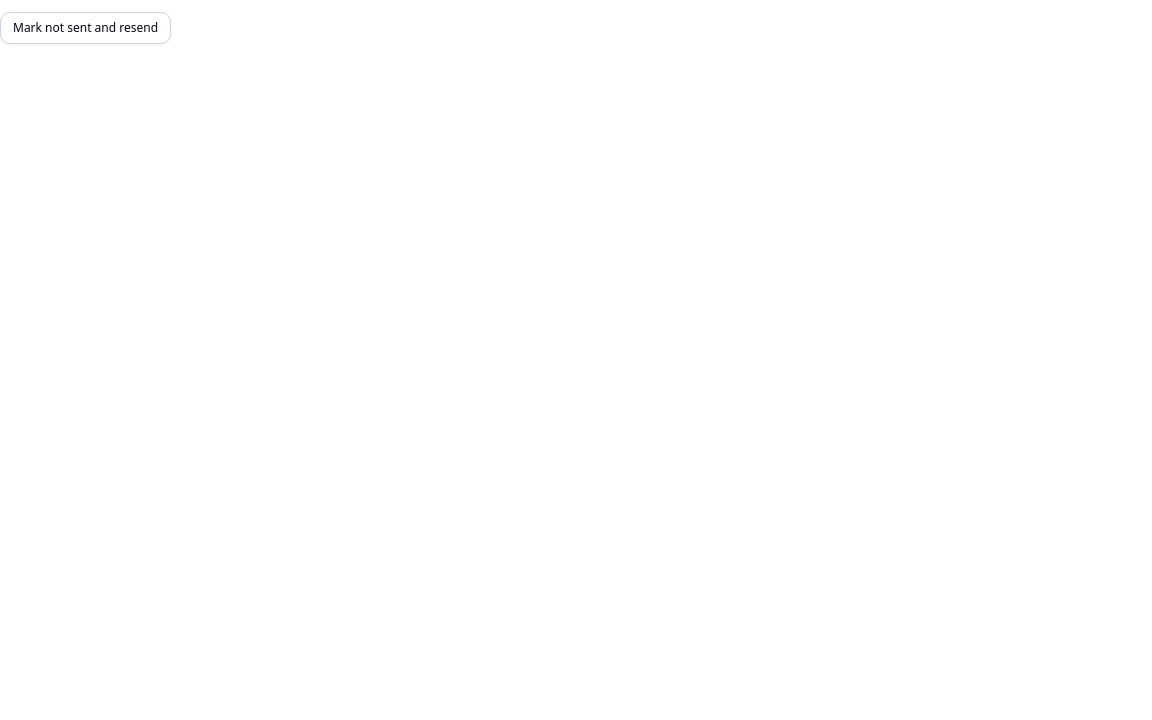
Scenario: VerificationResendAction › explains a resend the store was not ready for
What coordinates should you click on to do the following:
click the button "Mark not sent and resend"
I would click on:
 (86, 28)
Its box is [0,12,171,44].
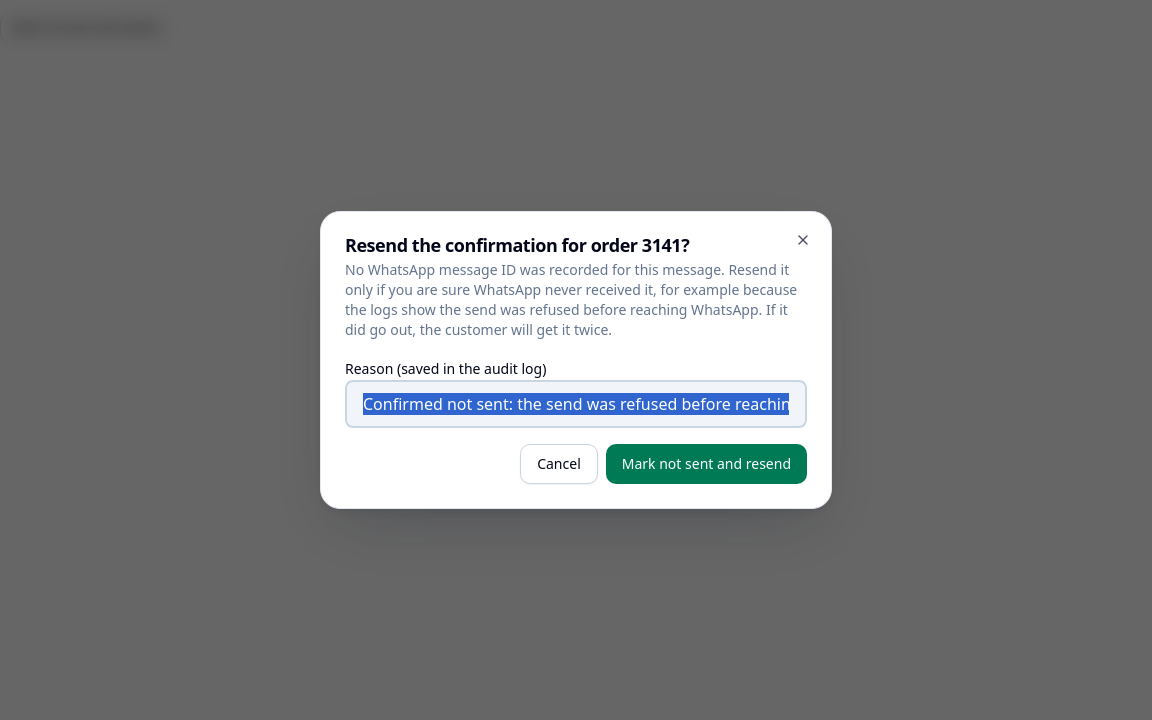
What coordinates should you click on to do the following:
click the button "Mark not sent and resend"
I would click on:
 (706, 464)
Its box is [606,444,807,484].
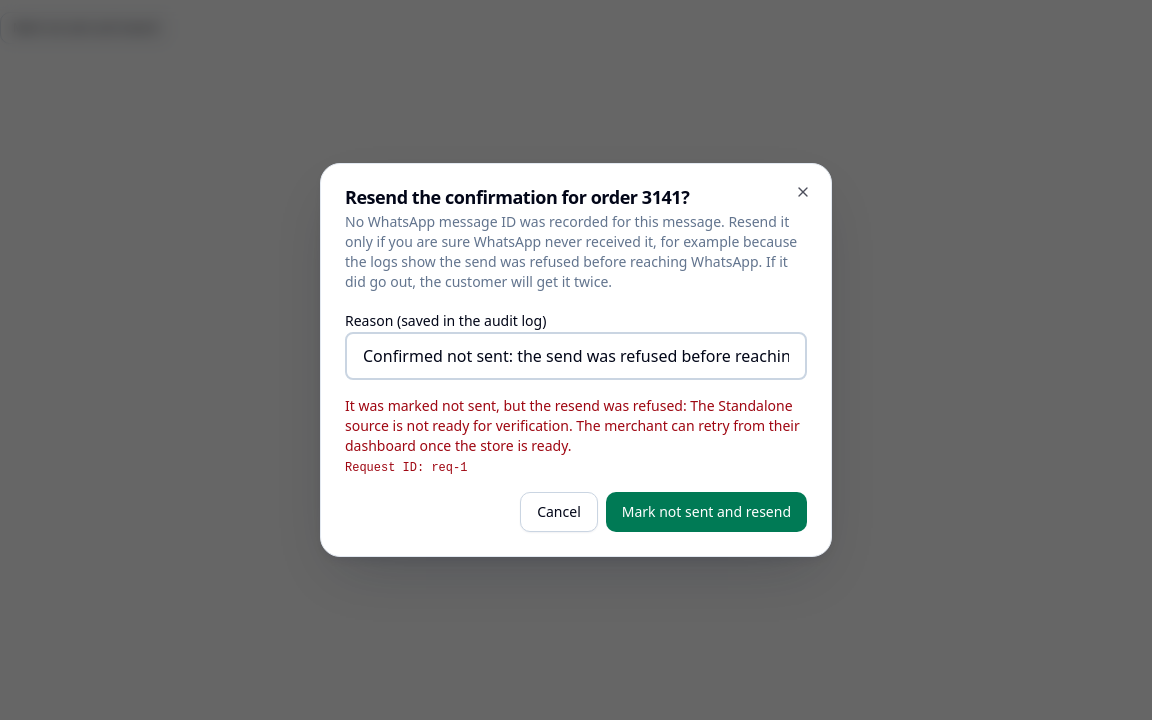
Expected: the message shows "marked not sent, but the resend was refused", [345,396,800,455]
Expected: the text "Request ID: req-1" is shown, [345,461,467,475]
